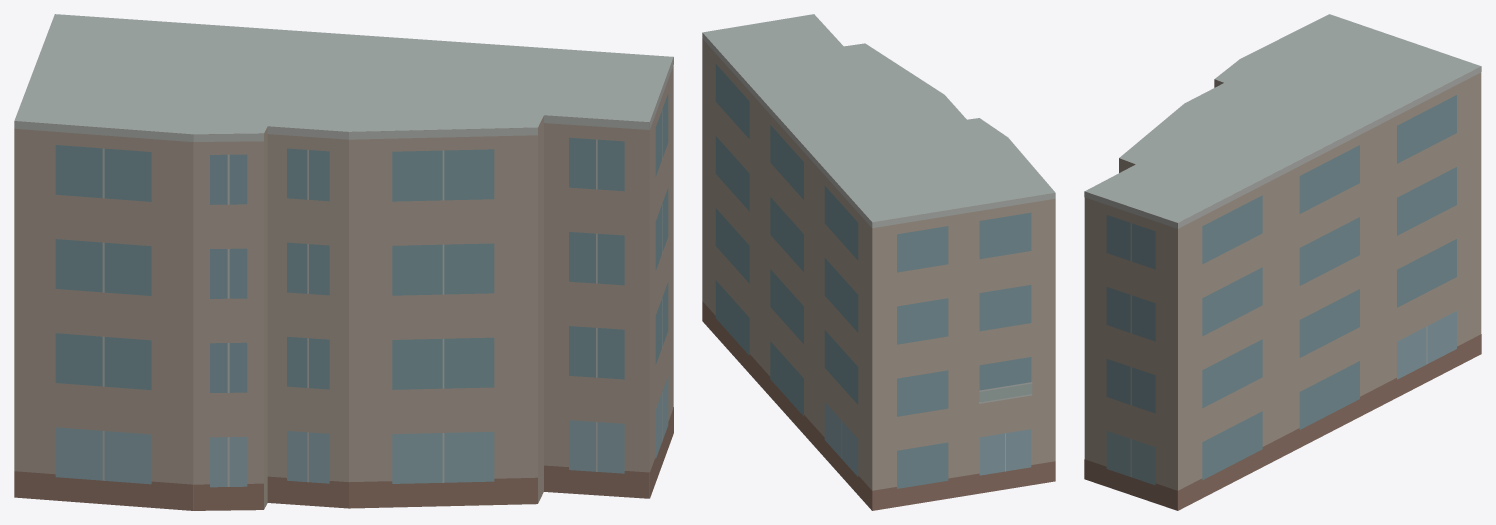
File: survey-upis-32731778.glb
3 renders of one model, left to right at view 1: azimuth 30°, elevation 25°; view 2: azimuth 150°, elevation 25°; view 3: azimuth 270°, elevation 25°, orthographic. The views are drawn at different scales.
Parts seen in each view (by area): view 1: survey-upis-32731778.tmp; view 2: survey-upis-32731778.tmp; view 3: survey-upis-32731778.tmp.
Part boxes in pixels (left/top/right/bottom): survey-upis-32731778.tmp: left=14, top=14, right=673, bottom=510; survey-upis-32731778.tmp: left=702, top=14, right=1055, bottom=510; survey-upis-32731778.tmp: left=1084, top=14, right=1481, bottom=510.
Bounding box in the file's own units: 18.38 × 11.8 × 14.75.
